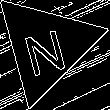N_N: (21, 17, 72, 76)
